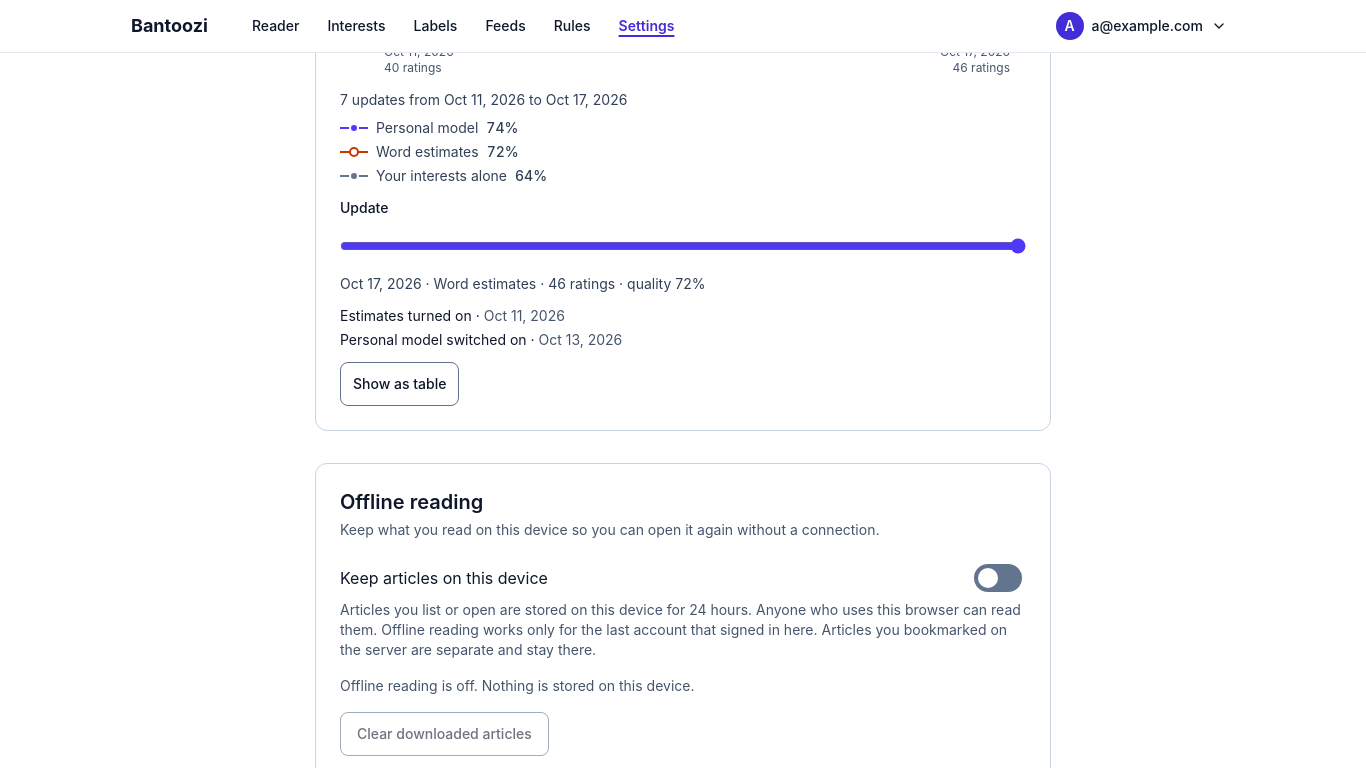
Scenario: learning curve: the table › is hidden until opened, newest first, and closes again
(page scrolled)
Click the button "Show as table".
click(400, 384)  # box [340,362,460,406]
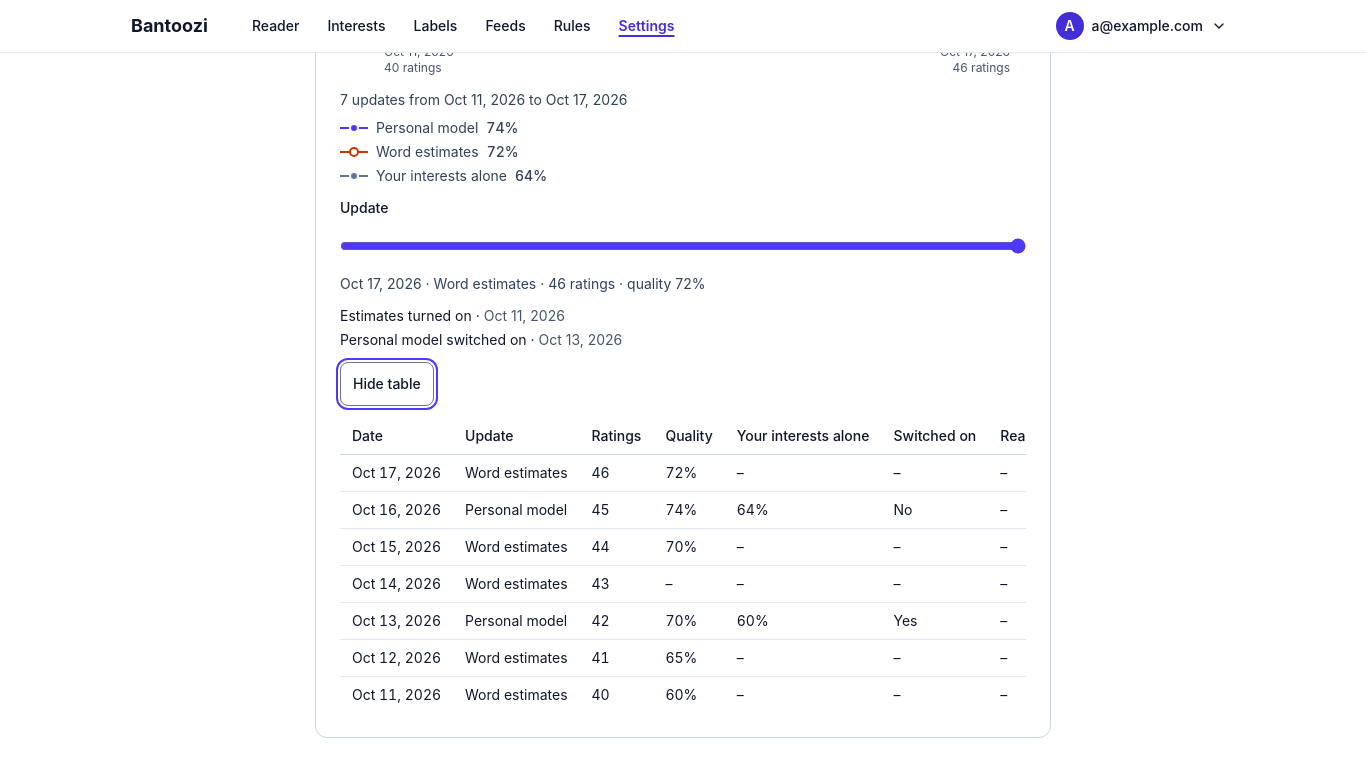
Expected: the button "Hide table" is expanded
Click the button "Hide table".
click(387, 384)  # box [340,362,434,406]
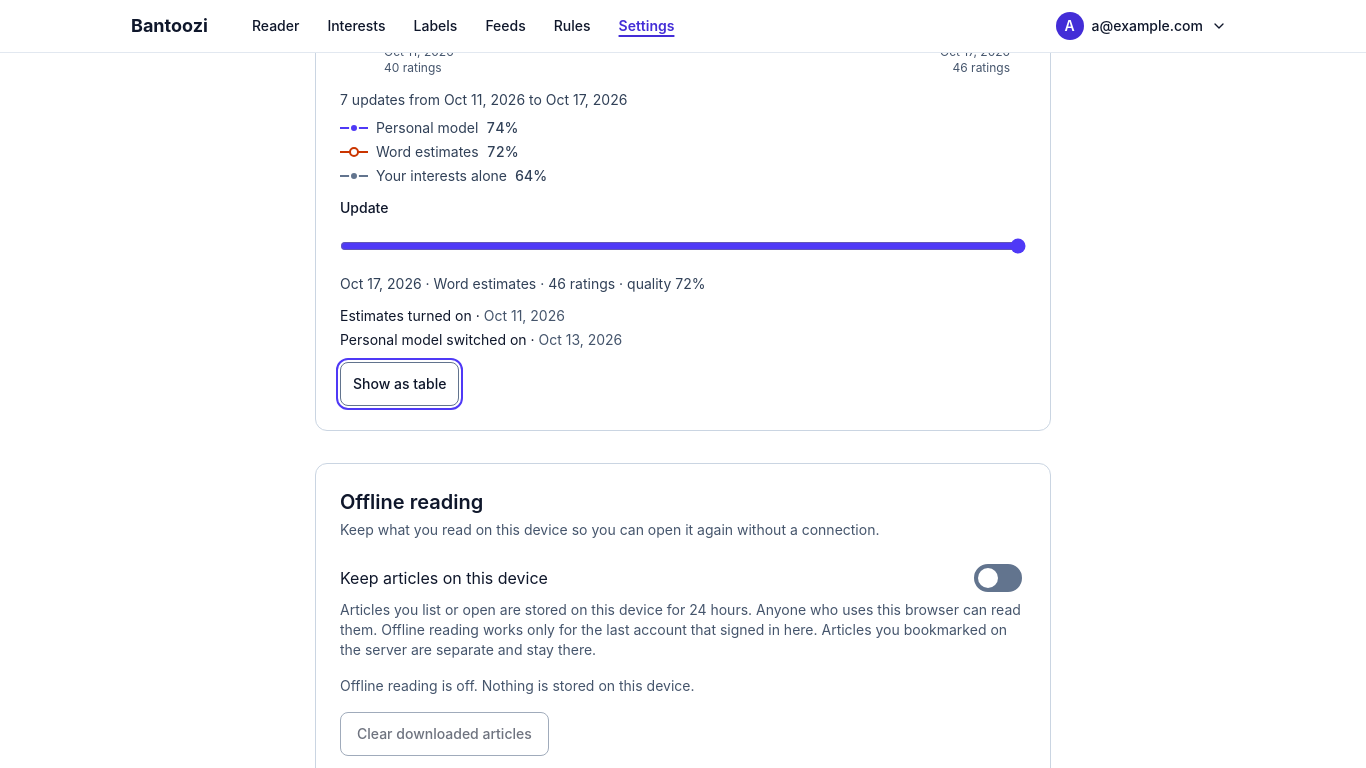
Expected: the table is gone
Expected: the button "Show as table" is collapsed, [340,362,460,406]
